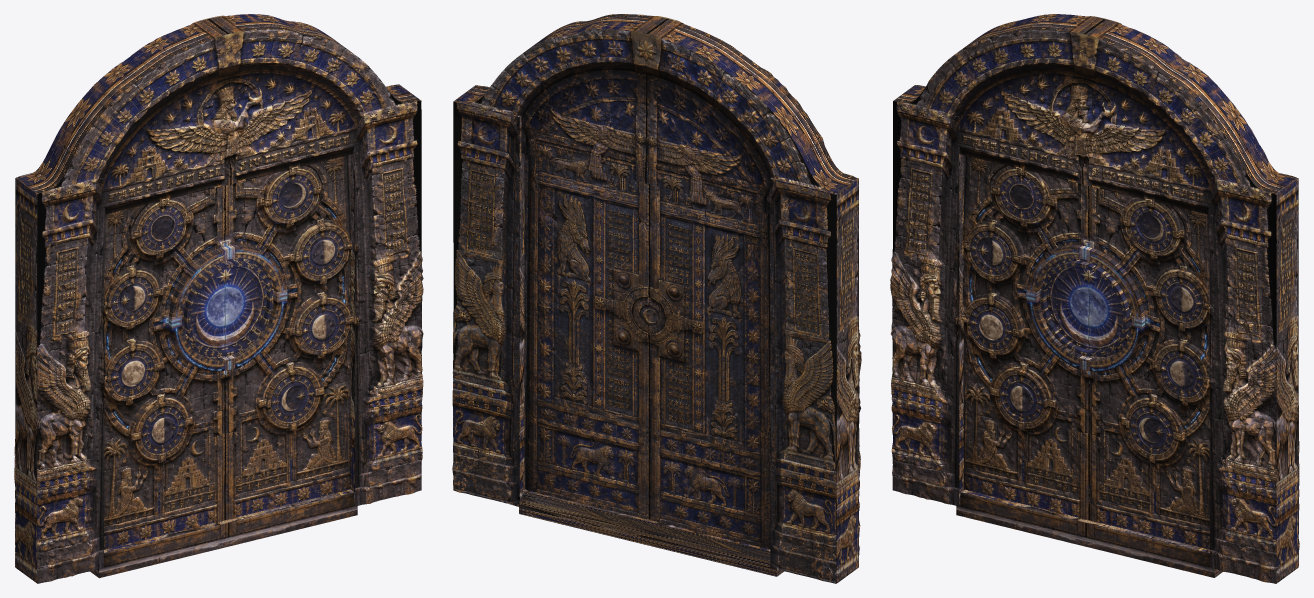
File: الباب المختوم.glb
3 renders of one model, left to right at view 1: azimuth 30°, elevation 25°; view 2: azimuth 150°, elevation 25°; view 3: azimuth 330°, elevation 25°, orthographic.
Visible parts, largest first — view 1: Arch_Front_Relief, Door_Right_Front_Relief, Door_Left_Front_Relief, Right_Column_Front_Relief, Left_Column_Front_Relief, Left_Column_Box, Arch_Top_Edge, Threshold_Box_FrontSeal, Lintel_Front_Relief, Symbol_06_Waning_Gibbous_Face, Symbol_08_Waning_Crescent_Face, Symbol_07_Last_Quarter_Face (+12 smaller); view 2: Door_Right_Back_Relief, Door_Left_Back_Relief, Arch_Back_Relief, Right_Column_Back_Relief, Left_Column_Back_Relief, Left_Column_Box, Arch_Top_Edge, Threshold_Box, Lintel_Back_Relief, Right_Column_Box, Left_Column_Front_Relief; view 3: Arch_Front_Relief, Door_Left_Front_Relief, Door_Right_Front_Relief, Right_Column_Front_Relief, Left_Column_Front_Relief, Right_Column_Box, Arch_Top_Edge, Threshold_Box_FrontSeal, Lintel_Front_Relief, Symbol_08_Waning_Crescent_Face, Symbol_03_First_Quarter_Face, Symbol_07_Last_Quarter_Face (+12 smaller).
Boxes of the visible parts, x1=… form: Arch_Front_Relief: x1=38, y1=29, x2=418, y2=221; Door_Right_Front_Relief: x1=224, y1=154, x2=351, y2=519; Door_Left_Front_Relief: x1=104, y1=185, x2=225, y2=549; Right_Column_Front_Relief: x1=355, y1=100, x2=423, y2=506; Left_Column_Front_Relief: x1=37, y1=178, x2=106, y2=583; Left_Column_Box: x1=15, y1=176, x2=102, y2=583; Arch_Top_Edge: x1=18, y1=14, x2=419, y2=193; Threshold_Box_FrontSeal: x1=99, y1=492, x2=357, y2=577; Lintel_Front_Relief: x1=103, y1=132, x2=355, y2=214; Symbol_06_Waning_Gibbous_Face: x1=297, y1=294, x2=353, y2=354; Symbol_08_Waning_Crescent_Face: x1=267, y1=370, x2=324, y2=430; Symbol_07_Last_Quarter_Face: x1=130, y1=403, x2=187, y2=463; Door_Right_Back_Relief: x1=524, y1=153, x2=650, y2=519; Door_Left_Back_Relief: x1=649, y1=184, x2=770, y2=548; Arch_Back_Relief: x1=457, y1=29, x2=837, y2=206; Right_Column_Back_Relief: x1=452, y1=101, x2=519, y2=506; Left_Column_Back_Relief: x1=769, y1=179, x2=836, y2=583; Left_Column_Box: x1=770, y1=177, x2=858, y2=583; Arch_Top_Edge: x1=456, y1=14, x2=857, y2=192; Threshold_Box: x1=519, y1=489, x2=783, y2=576; Lintel_Back_Relief: x1=520, y1=131, x2=770, y2=213; Right_Column_Box: x1=454, y1=85, x2=524, y2=505; Left_Column_Front_Relief: x1=853, y1=176, x2=861, y2=566; Arch_Front_Relief: x1=894, y1=29, x2=1274, y2=222; Door_Left_Front_Relief: x1=961, y1=155, x2=1088, y2=519; Door_Right_Front_Relief: x1=1088, y1=186, x2=1209, y2=549; Right_Column_Front_Relief: x1=1207, y1=178, x2=1276, y2=583; Left_Column_Front_Relief: x1=890, y1=101, x2=959, y2=506; Right_Column_Box: x1=1211, y1=176, x2=1298, y2=583; Arch_Top_Edge: x1=894, y1=14, x2=1295, y2=193; Threshold_Box_FrontSeal: x1=956, y1=492, x2=1214, y2=577; Lintel_Front_Relief: x1=958, y1=132, x2=1209, y2=214; Symbol_08_Waning_Crescent_Face: x1=1125, y1=403, x2=1182, y2=463; Symbol_03_First_Quarter_Face: x1=966, y1=223, x2=1022, y2=282; Symbol_07_Last_Quarter_Face: x1=989, y1=370, x2=1045, y2=430.
Size of the model in its own units: 5.58 by 7.13 by 0.7174.
5 materials, 5 textured.
